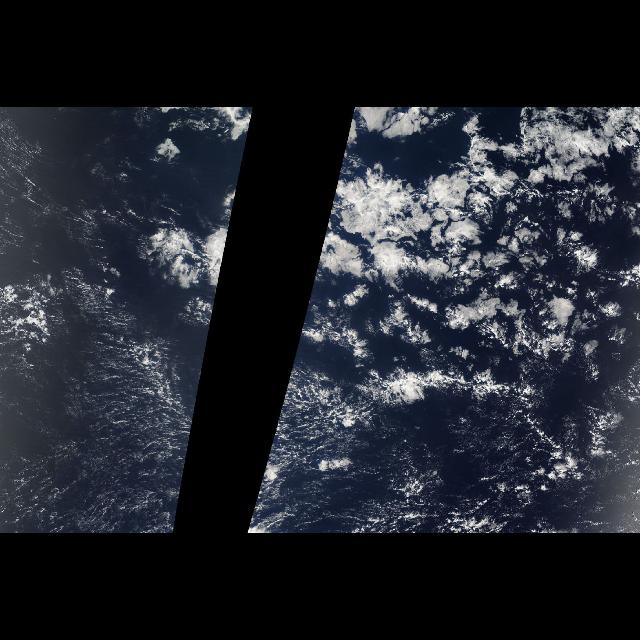Flower: (420, 168, 640, 362)
Sugar: (40, 260, 180, 486)
